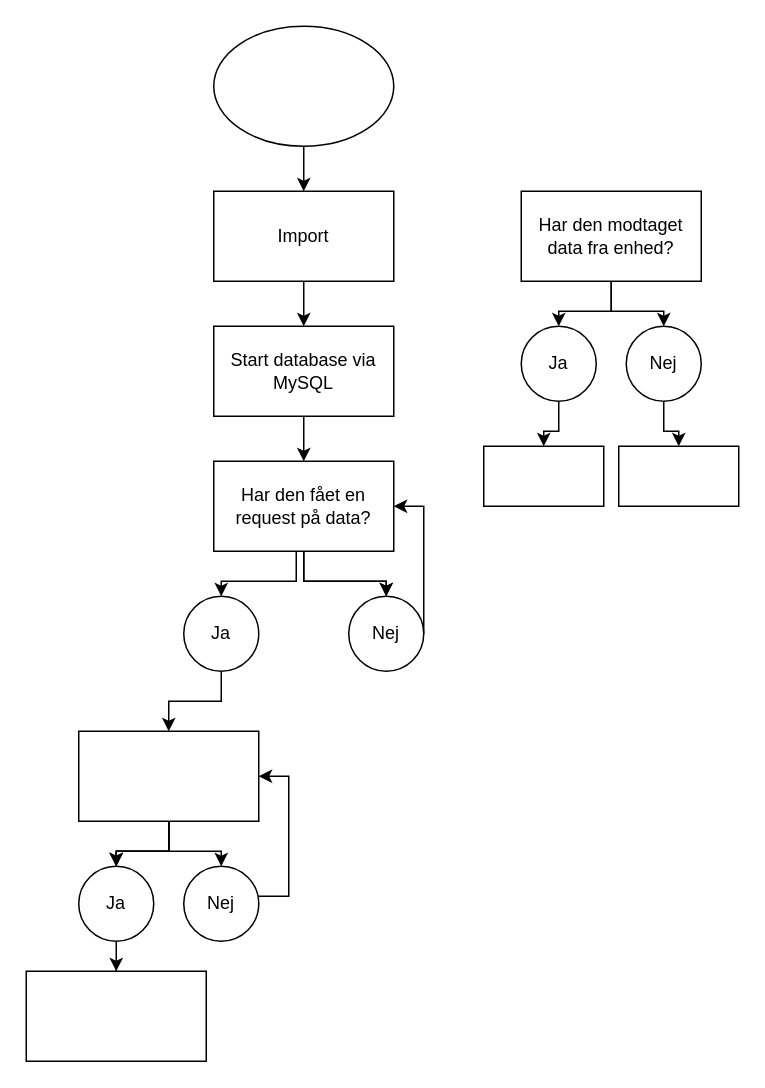
The diagram is 765 pixels wide and 1088 high, and some of its shapes have lost their labels. The shapes that lost their labels are listed below. From the top down, each one's box as (x1, y1, x2, y2) in pixels, then its label:
(212, 25, 394, 146): Start
(482, 445, 604, 506): Erstat gammel data
(617, 445, 739, 506): Ignorer
(77, 730, 259, 821): Har den det rette password?
(25, 970, 206, 1061): Send data
